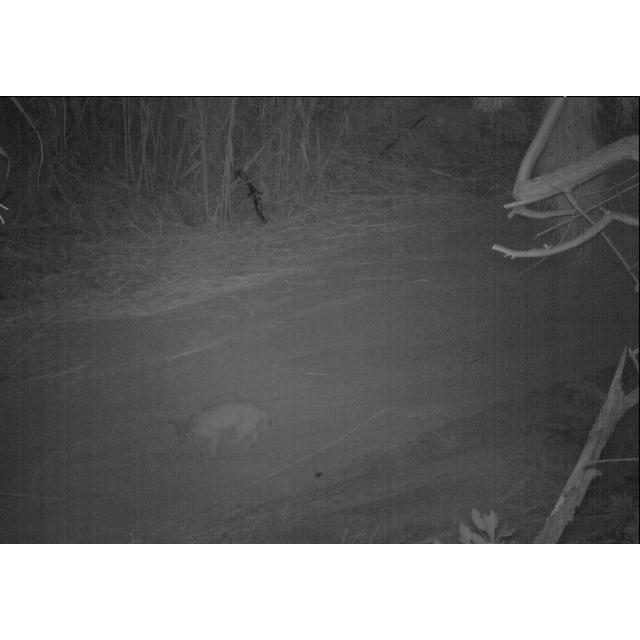animals: (175, 397, 272, 457)
